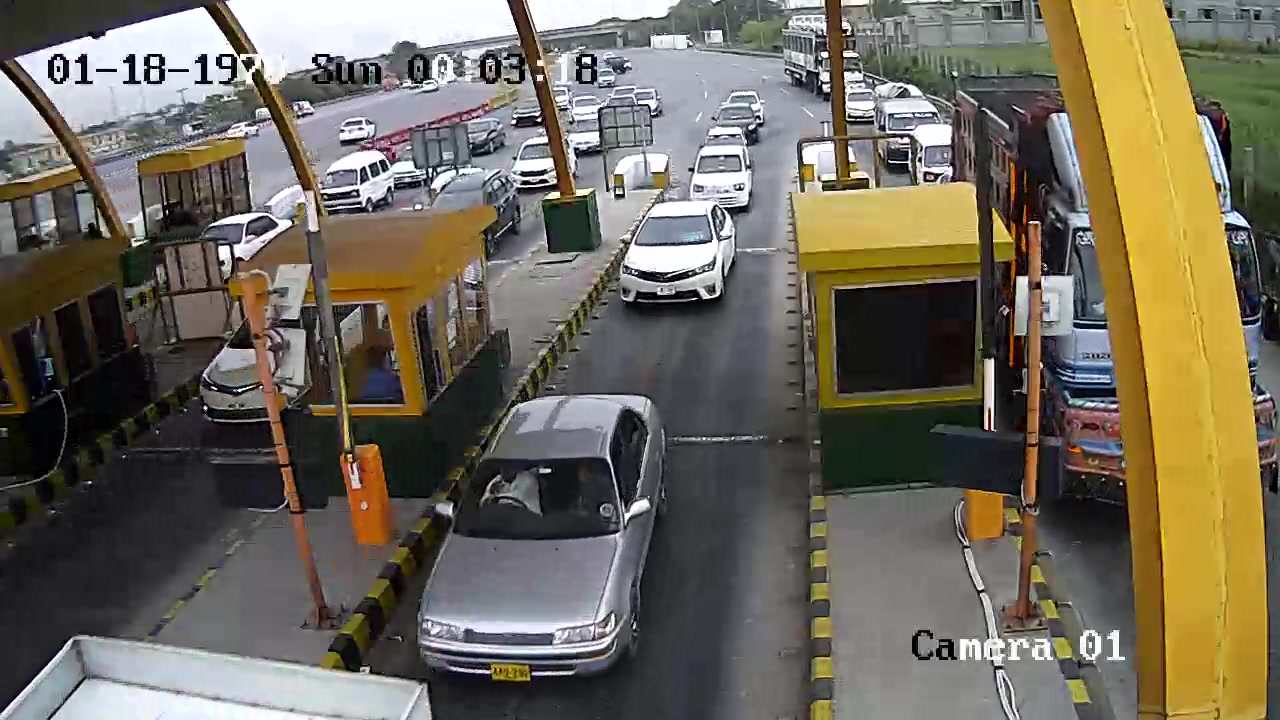F1: (411, 381, 685, 690)
